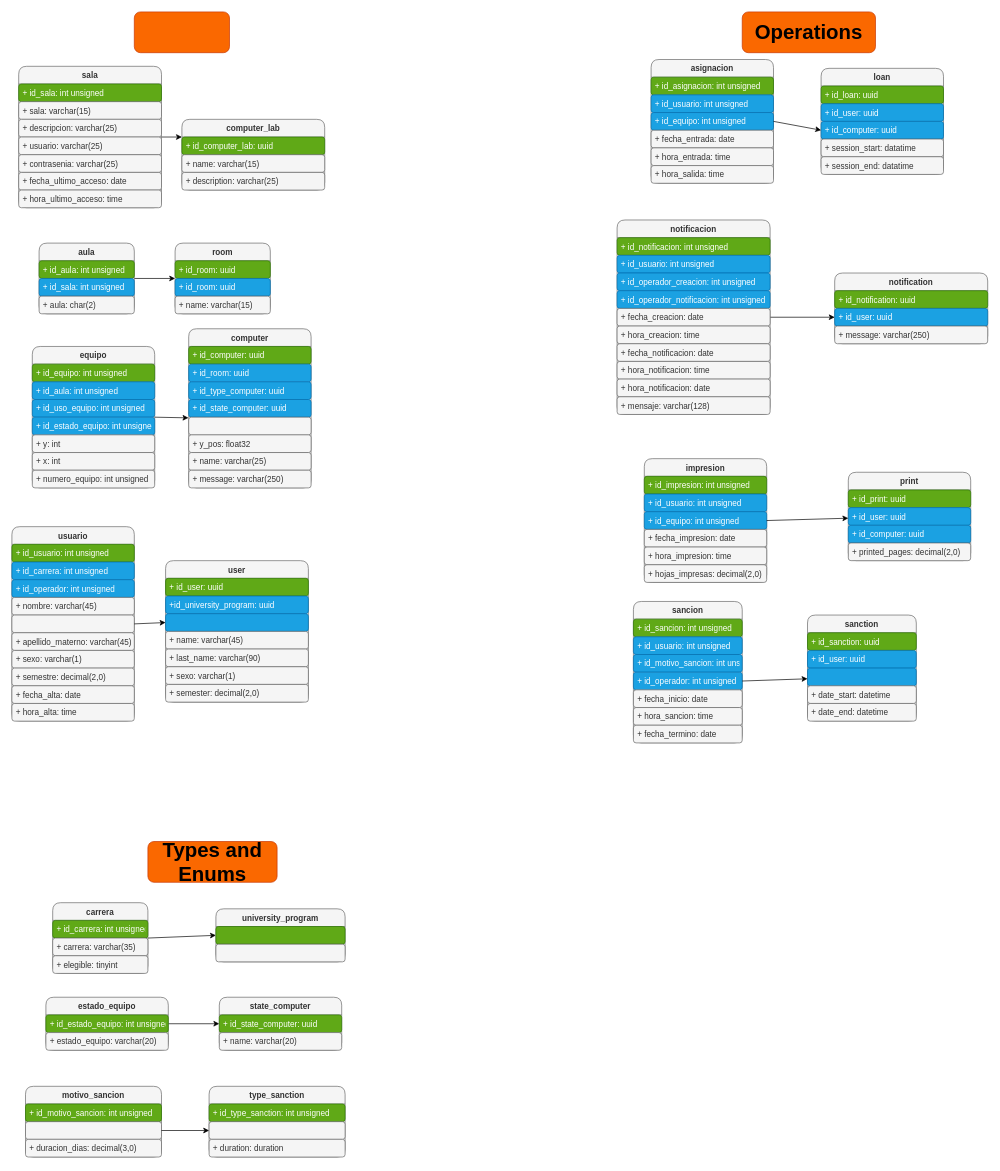
Some shapes in this 1000 by 1171 pixel diagram are drawn without their labels. The centre of each missing label's shape, as x and y in pixels:
"+ apellido_paterno: varchar(45)" belongs at [72,623].
"+ description: varchar(80)" belongs at [276,1130].
"+ id_operator: uuid" belongs at [236,622].
"+ id_type_sanction: uuid" belongs at [861,676].
"+ id_university_program: uuid" belongs at [280,935].
"+ motivo_sancion: varchar(80)" belongs at [93,1130].
"+ name: varchar(35)" belongs at [280,953].
"+ x_pos: float32" belongs at [249,426].
"Objects" belongs at [182,32].
